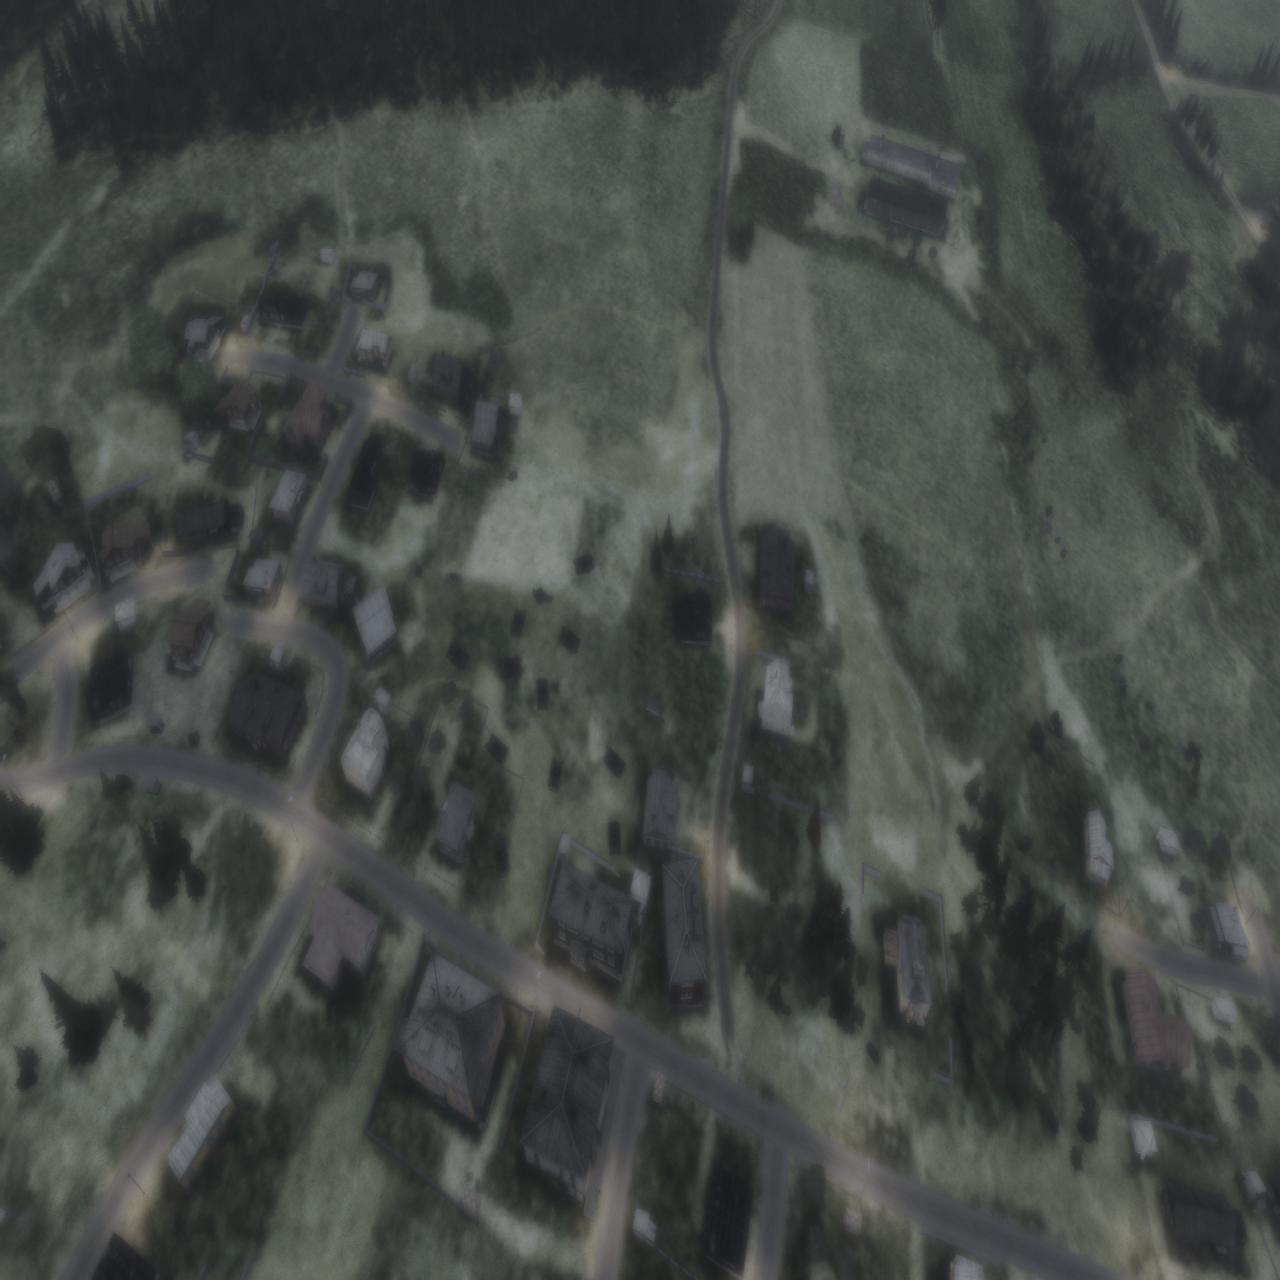MIL_Veh: (601, 742, 626, 779), (444, 635, 470, 670), (484, 729, 509, 764), (557, 625, 583, 655), (493, 835, 511, 877), (606, 816, 624, 856), (549, 751, 564, 796), (535, 673, 551, 714), (509, 601, 526, 639), (568, 553, 595, 577)
